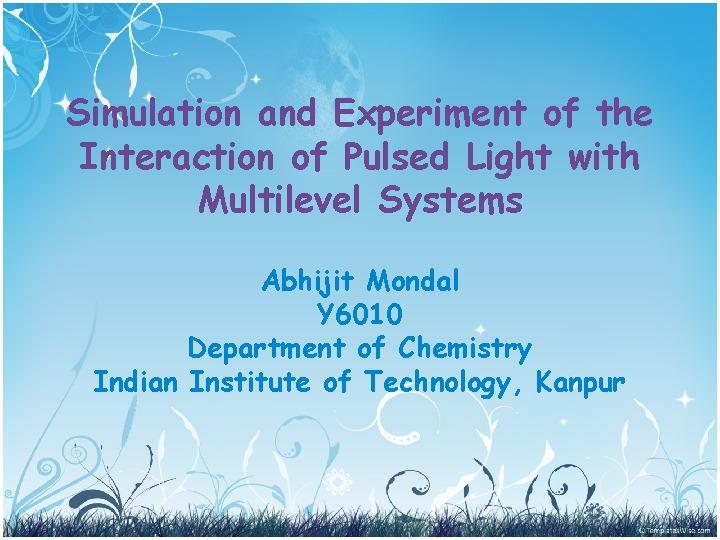subtitle: (68, 252, 658, 432)
title: (54, 61, 683, 235)
